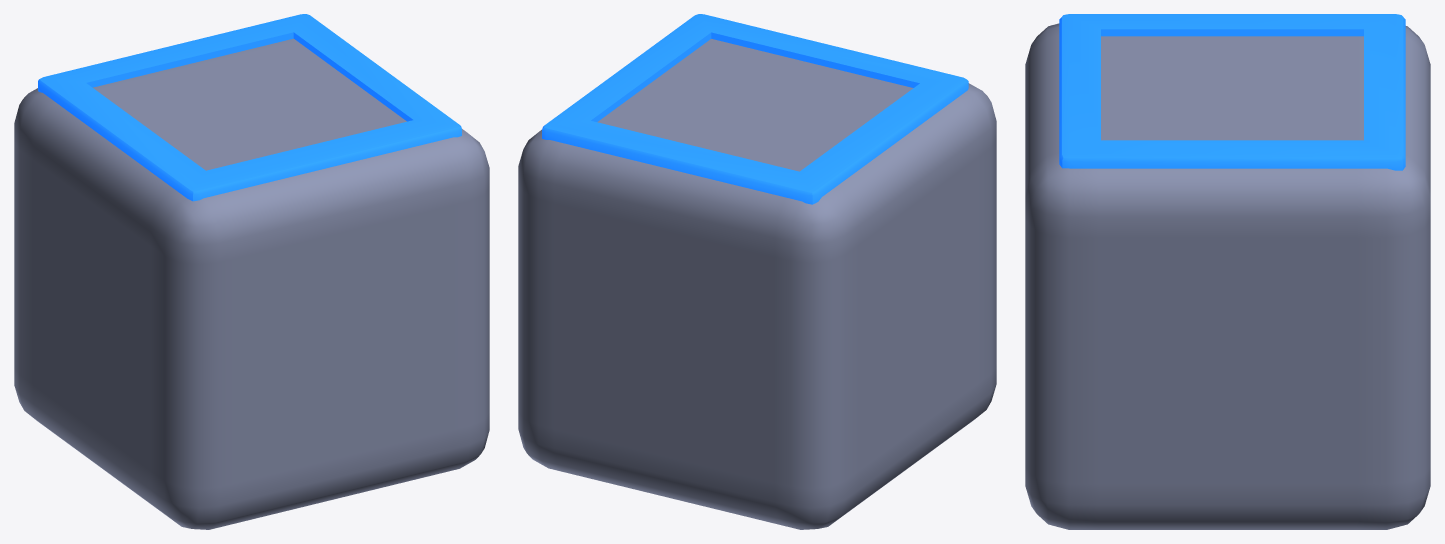
File: DefaultTileModel.fbx
The picture shows the model from 3 angles, left to right: view 1: azimuth 30°, elevation 25°; view 2: azimuth 150°, elevation 25°; view 3: azimuth 270°, elevation 25°; orthographic projection. The views are drawn at different scales.
Parts seen in each view (by area): view 1: DefaultTile, DefaultTileGlow; view 2: DefaultTile, DefaultTileGlow; view 3: DefaultTile, DefaultTileGlow.
Part boxes in pixels (box(x1,y1,x2,y2)): DefaultTile: box(14, 38, 489, 529); DefaultTileGlow: box(38, 14, 461, 201); DefaultTile: box(518, 39, 996, 529); DefaultTileGlow: box(542, 14, 968, 204); DefaultTile: box(1025, 23, 1430, 529); DefaultTileGlow: box(1059, 14, 1405, 170).
Size of the model in its own units: 200 by 204 by 200.
